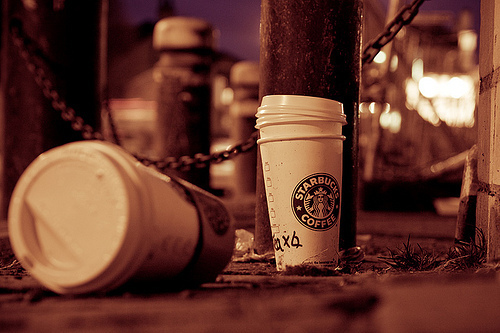litter: (6, 140, 235, 299), (253, 94, 347, 272)
